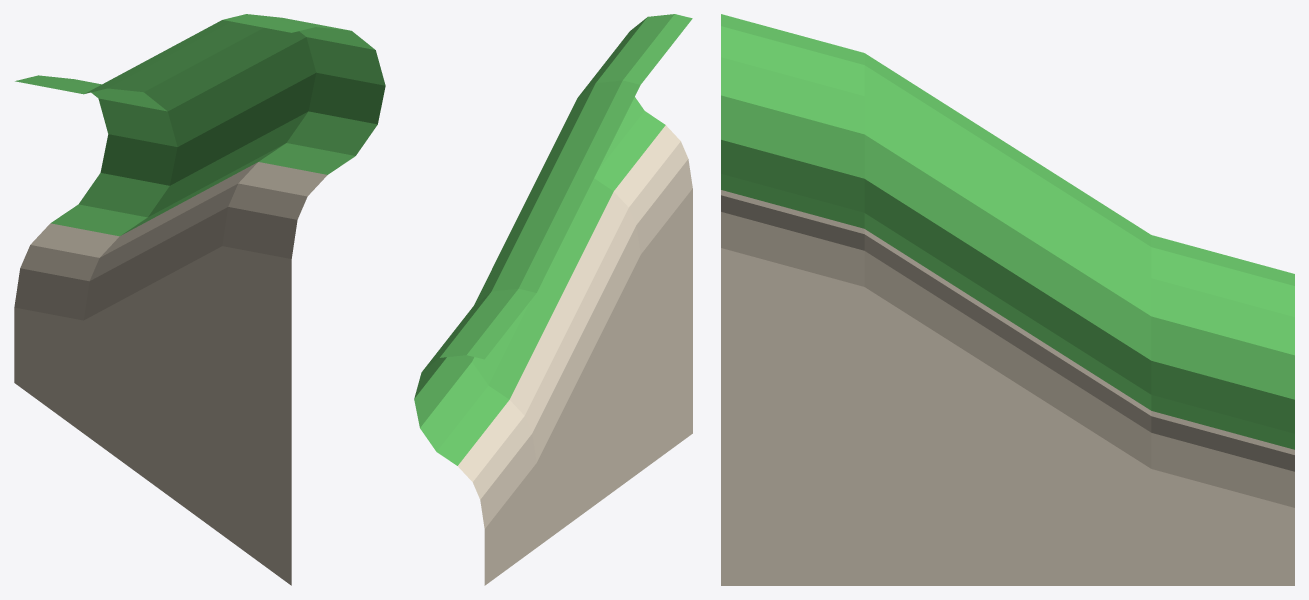
The model's file is Escarpment_Terrain_Hill_Top.glb.
3 views of the same model, side by side, from view 1: azimuth 30°, elevation 25°; view 2: azimuth 150°, elevation 25°; view 3: azimuth 270°, elevation 25° (orthographic). The views are drawn at different scales.
Visible parts, largest first — view 1: Escarpment_Terrain_Hill_Top; view 2: Escarpment_Terrain_Hill_Top; view 3: Escarpment_Terrain_Hill_Top.
Part boxes in pixels (left/top/right/bottom): Escarpment_Terrain_Hill_Top: left=14, top=14, right=385, bottom=585; Escarpment_Terrain_Hill_Top: left=414, top=14, right=692, bottom=585; Escarpment_Terrain_Hill_Top: left=721, top=14, right=1294, bottom=585.
Size of the model in its own units: 0.2072 by 1.17 by 1.06.
